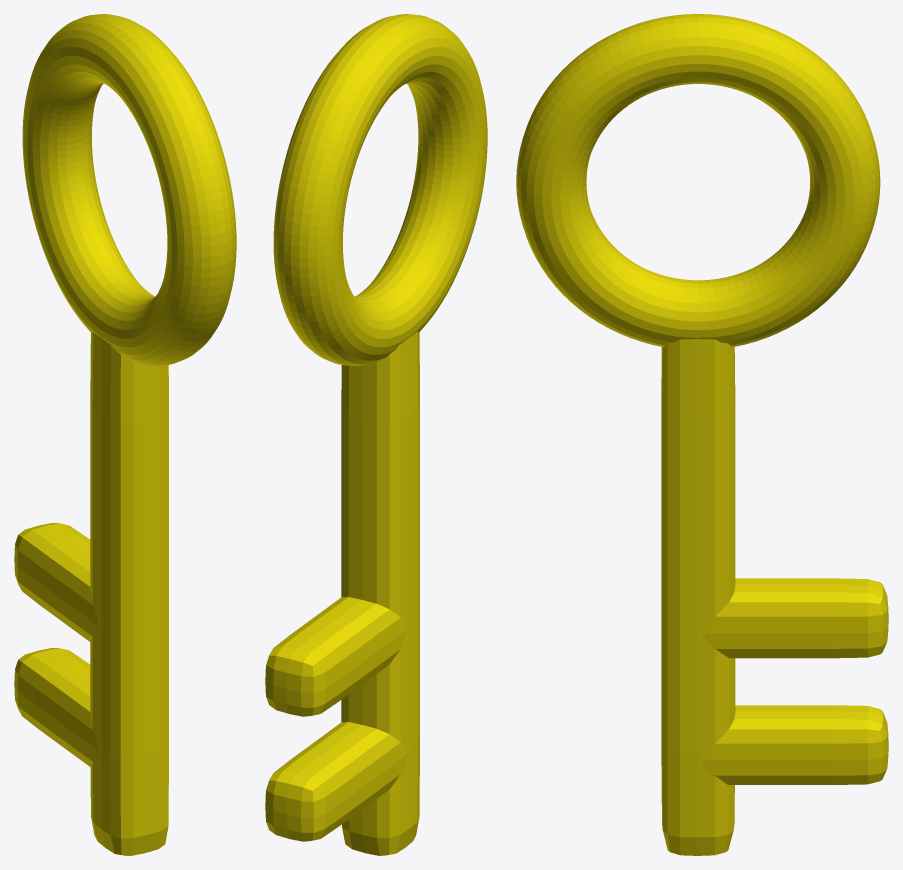
Rendered from key.fbx.
The picture shows the model from 3 angles, left to right: view 1: azimuth 30°, elevation 25°; view 2: azimuth 150°, elevation 25°; view 3: azimuth 270°, elevation 25°; orthographic projection.
Parts seen in each view (by area): view 1: 立方体, トーラス; view 2: 立方体, トーラス; view 3: 立方体, トーラス.
Part boxes in pixels (x1=…): 立方体: x1=14, y1=332, x2=168, y2=855; トーラス: x1=22, y1=14, x2=236, y2=365; 立方体: x1=265, y1=331, x2=419, y2=855; トーラス: x1=273, y1=14, x2=487, y2=365; 立方体: x1=661, y1=339, x2=888, y2=855; トーラス: x1=516, y1=14, x2=880, y2=346.
Size of the model in its own units: 7.76 by 101 by 41.04.
